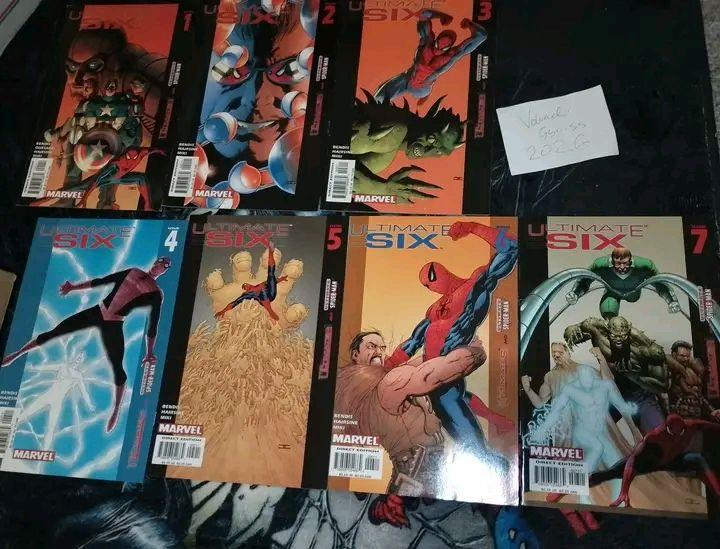comic: (148, 201, 354, 494), (519, 217, 719, 515), (328, 210, 529, 504), (0, 204, 186, 485), (12, 0, 212, 238), (317, 0, 494, 213), (165, 0, 324, 211)
